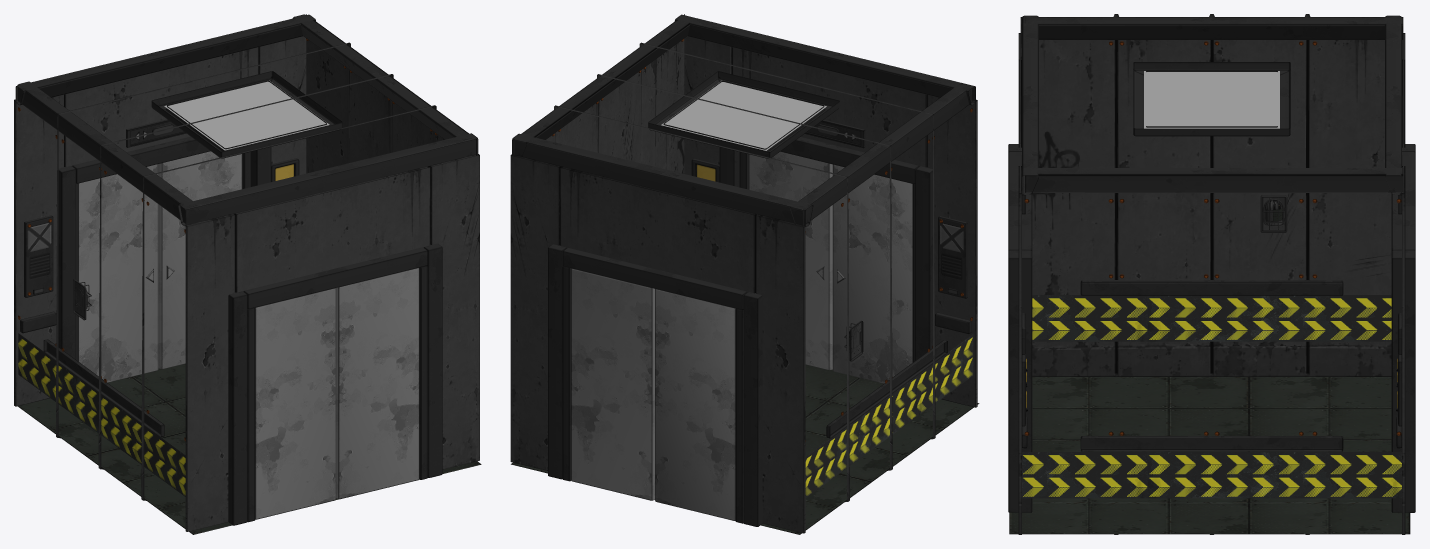
File: Lift_New.fbx
The picture shows the model from 3 angles, left to right: view 1: azimuth 30°, elevation 25°; view 2: azimuth 150°, elevation 25°; view 3: azimuth 270°, elevation 25°; orthographic projection. The views are drawn at different scales.
Visible parts, largest first — view 1: group2_polySurface1, Door_L (×2), Door_R (×2), Top_Bar_FB, Top_Bar_RL, Arrow_Strip, Light_Plane, Light, Tech_Left, Bar1, Upper_Shoow, Side_Light_Metal (+1 smaller); view 2: group2_polySurface1, Door_L (×2), Door_R (×2), Top_Bar_FB, Top_Bar_RL, Arrow_Strip, Light_Plane, Light, Tech_Left, Bar1, Upper_Shoow, Side_Light_Metal; view 3: group2_polySurface1, Arrow_Strip, Top_Bar_RL, Bar1, Light_Plane, Top_Bar_FB, Light, Side_Light_Metal, Screws_Left.
Boxes of the visible parts, x1,y1,x2,y2 form: group2_polySurface1: [14, 14, 481, 534]; Door_L (×2): [78, 164, 335, 519]; Door_R (×2): [158, 151, 419, 499]; Top_Bar_FB: [15, 14, 478, 226]; Top_Bar_RL: [17, 14, 471, 223]; Arrow_Strip: [18, 333, 185, 496]; Light_Plane: [164, 80, 329, 150]; Light: [151, 71, 342, 158]; Tech_Left: [24, 215, 53, 297]; Bar1: [43, 339, 164, 437]; Upper_Shoow: [126, 119, 186, 147]; Side_Light_Metal: [73, 279, 91, 320]; group2_polySurface1: [510, 14, 979, 534]; Door_L (×2): [655, 164, 912, 521]; Door_R (×2): [571, 151, 832, 500]; Top_Bar_FB: [512, 14, 975, 226]; Top_Bar_RL: [513, 16, 972, 226]; Arrow_Strip: [805, 334, 973, 497]; Light_Plane: [661, 80, 826, 150]; Light: [648, 71, 839, 158]; Tech_Left: [938, 216, 967, 298]; Bar1: [826, 340, 947, 438]; Upper_Shoow: [804, 119, 865, 148]; Side_Light_Metal: [844, 320, 863, 361]; group2_polySurface1: [1008, 14, 1415, 534]; Arrow_Strip: [1022, 295, 1401, 498]; Top_Bar_RL: [1025, 17, 1403, 192]; Bar1: [1080, 280, 1343, 451]; Light_Plane: [1144, 71, 1279, 128]; Top_Bar_FB: [1022, 15, 1401, 194]; Light: [1133, 62, 1290, 136]; Side_Light_Metal: [1260, 195, 1287, 232]; Screws_Left: [1024, 41, 1401, 435].
Bounding box in the file's own units: 884 × 927 × 944.
3 materials, 2 textured.
